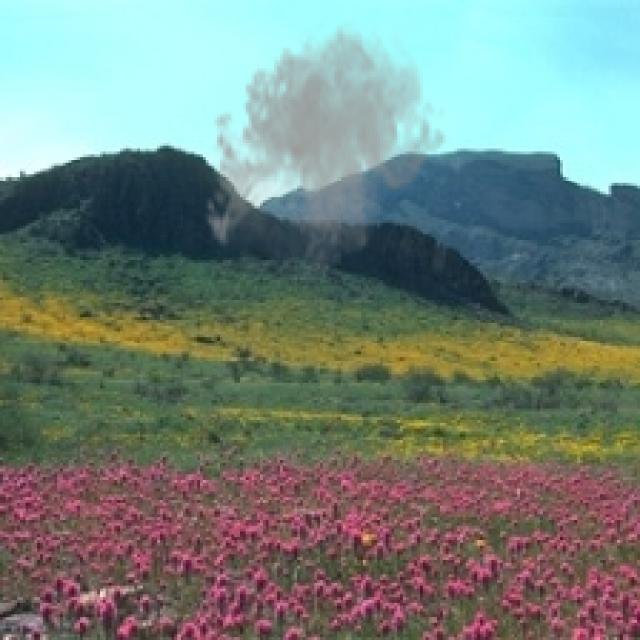smoke: (200, 17, 449, 283)
